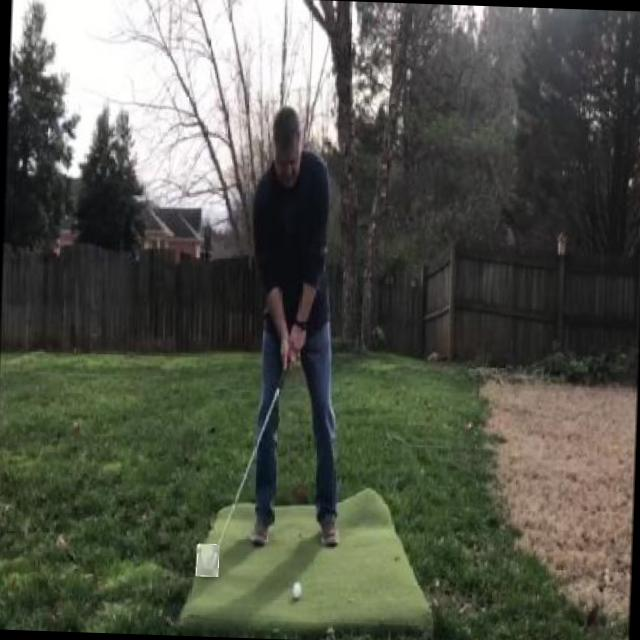club head: (195, 544, 219, 576)
